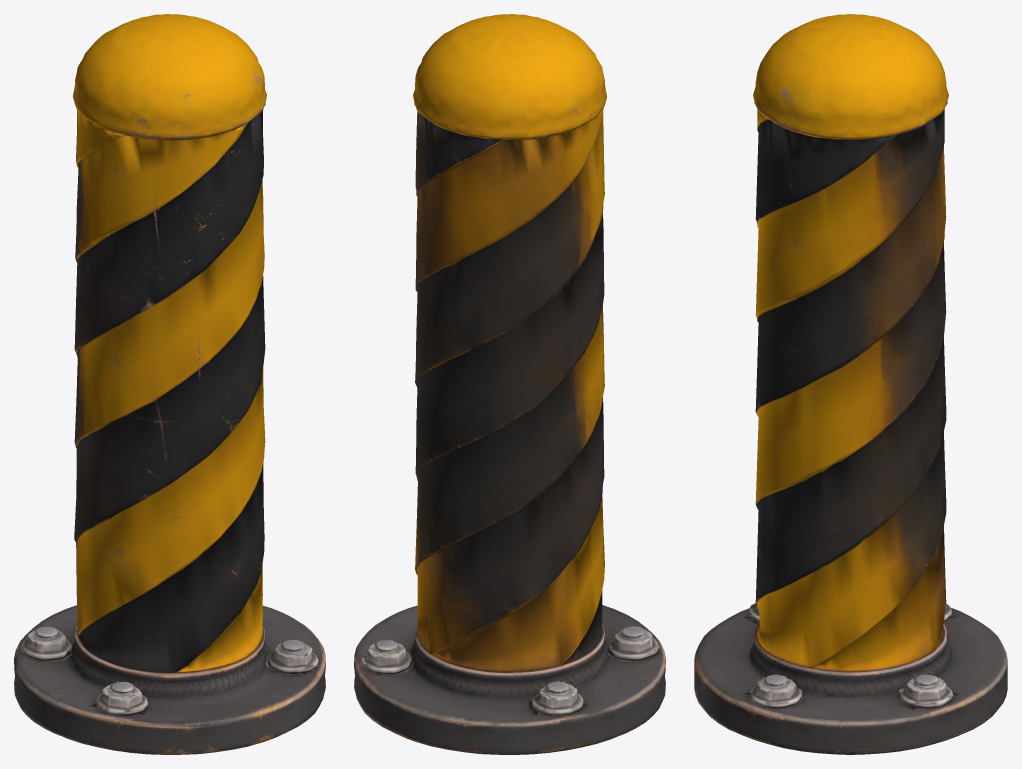
Rendered from bollard.glb.
3 views of the same model, side by side, from view 1: azimuth 30°, elevation 25°; view 2: azimuth 150°, elevation 25°; view 3: azimuth 270°, elevation 25° (orthographic).
Parts seen in each view (by area): view 1: tripo_node_7dcc816e-0ee6-4a32-a45a-fdf9146ab10f; view 2: tripo_node_7dcc816e-0ee6-4a32-a45a-fdf9146ab10f; view 3: tripo_node_7dcc816e-0ee6-4a32-a45a-fdf9146ab10f.
Part boxes in pixels (box(x1,y1,x2,y2)): tripo_node_7dcc816e-0ee6-4a32-a45a-fdf9146ab10f: box(14, 14, 325, 754); tripo_node_7dcc816e-0ee6-4a32-a45a-fdf9146ab10f: box(354, 14, 665, 754); tripo_node_7dcc816e-0ee6-4a32-a45a-fdf9146ab10f: box(694, 14, 1007, 754).
Size of the model in its own units: 0.4185 by 0.9765 by 0.4185.
1 material, 1 textured.
